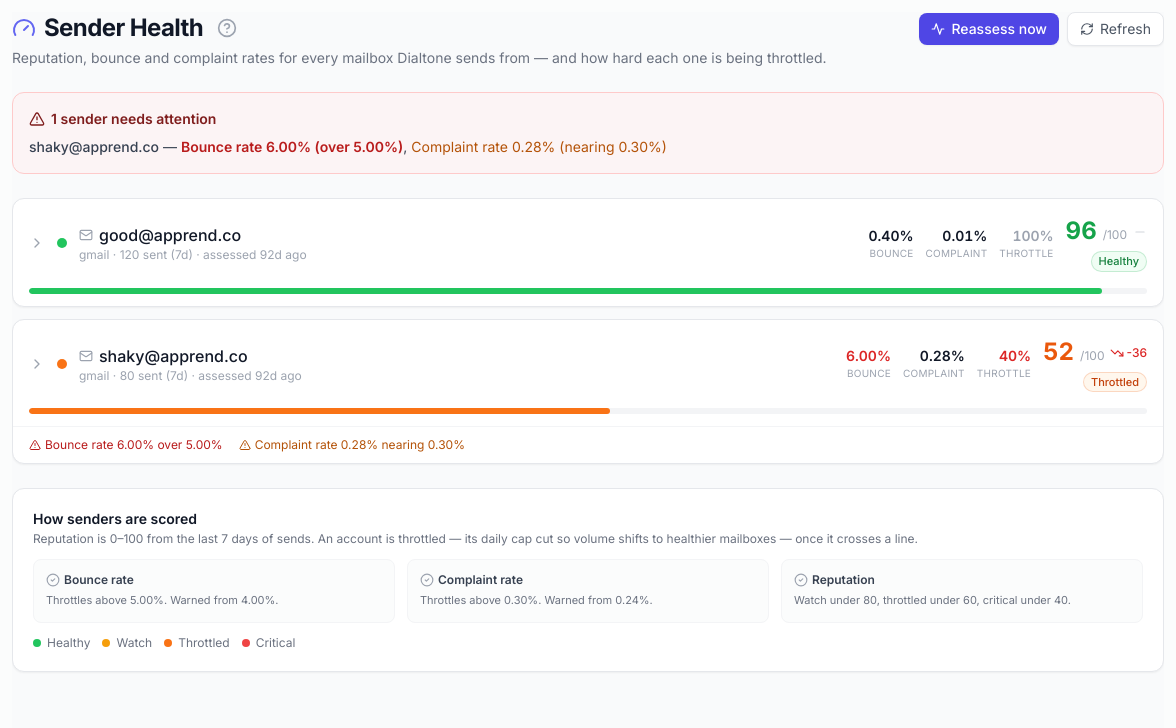
Test: SenderHealth page › explains there is not enough history to trend for a fresh account
The width and height of the screenshot is (1176, 728).
Expected: the text "good@apprend.co" is shown, left=79, top=225, right=241, bottom=245
Click the button named "show trend for good@apprend.co" at (37, 243), box left=29, top=235, right=45, bottom=251
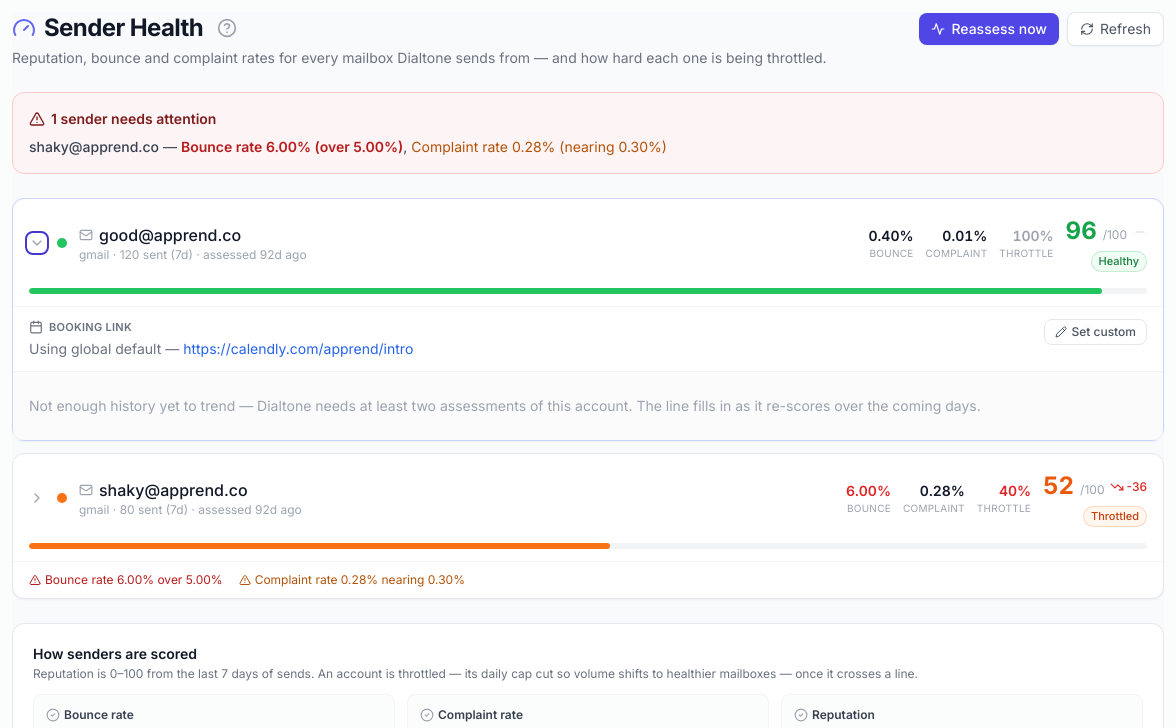
Expected: the text "Not enough history yet to trend" is shown, left=29, top=397, right=981, bottom=414
